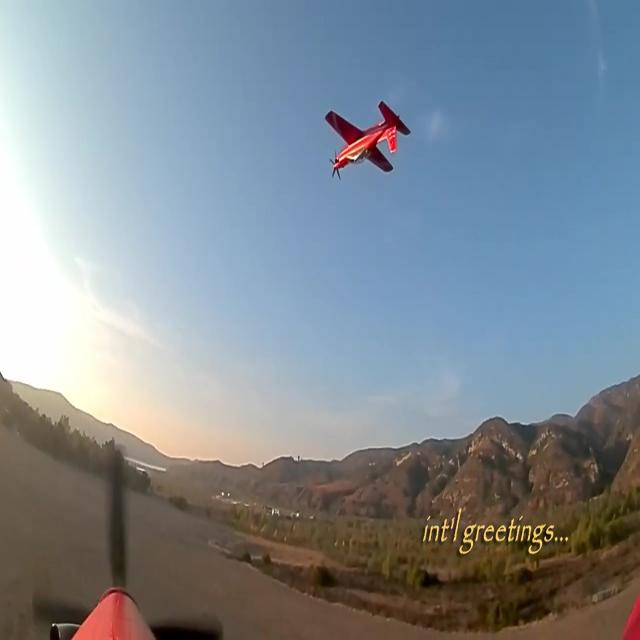iha: (356, 125, 379, 143)
